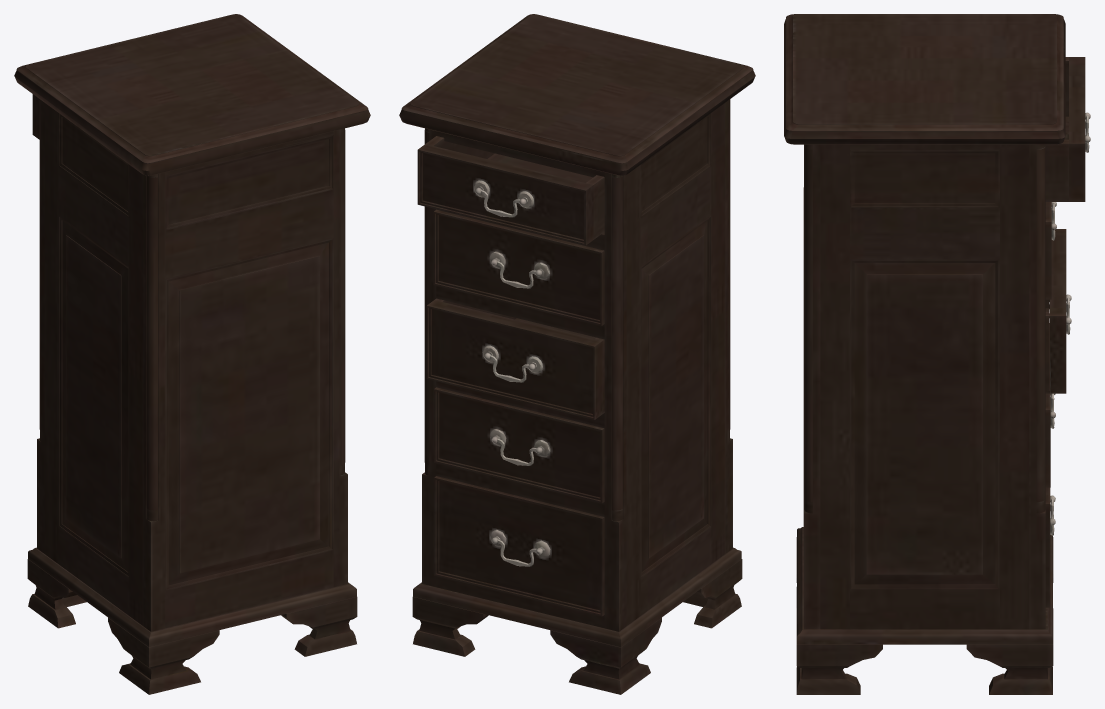
Rendered from cabinet-drawers-small.glb.
The picture shows the model from 3 angles, left to right: view 1: azimuth 30°, elevation 25°; view 2: azimuth 150°, elevation 25°; view 3: azimuth 270°, elevation 25°; orthographic projection. The views are drawn at different scales.
Parts seen in each view (by area): view 1: cabinet-drawers-small; view 2: cabinet-drawers-small; view 3: cabinet-drawers-small.
Boxes of the visible parts, left/top/right/bottom form: cabinet-drawers-small: left=14, top=14, right=370, bottom=694; cabinet-drawers-small: left=399, top=14, right=755, bottom=694; cabinet-drawers-small: left=784, top=14, right=1090, bottom=694.
Size of the model in its own units: 0.4344 by 0.982 by 0.4773.
Materials: 1 (1 with a texture image).
